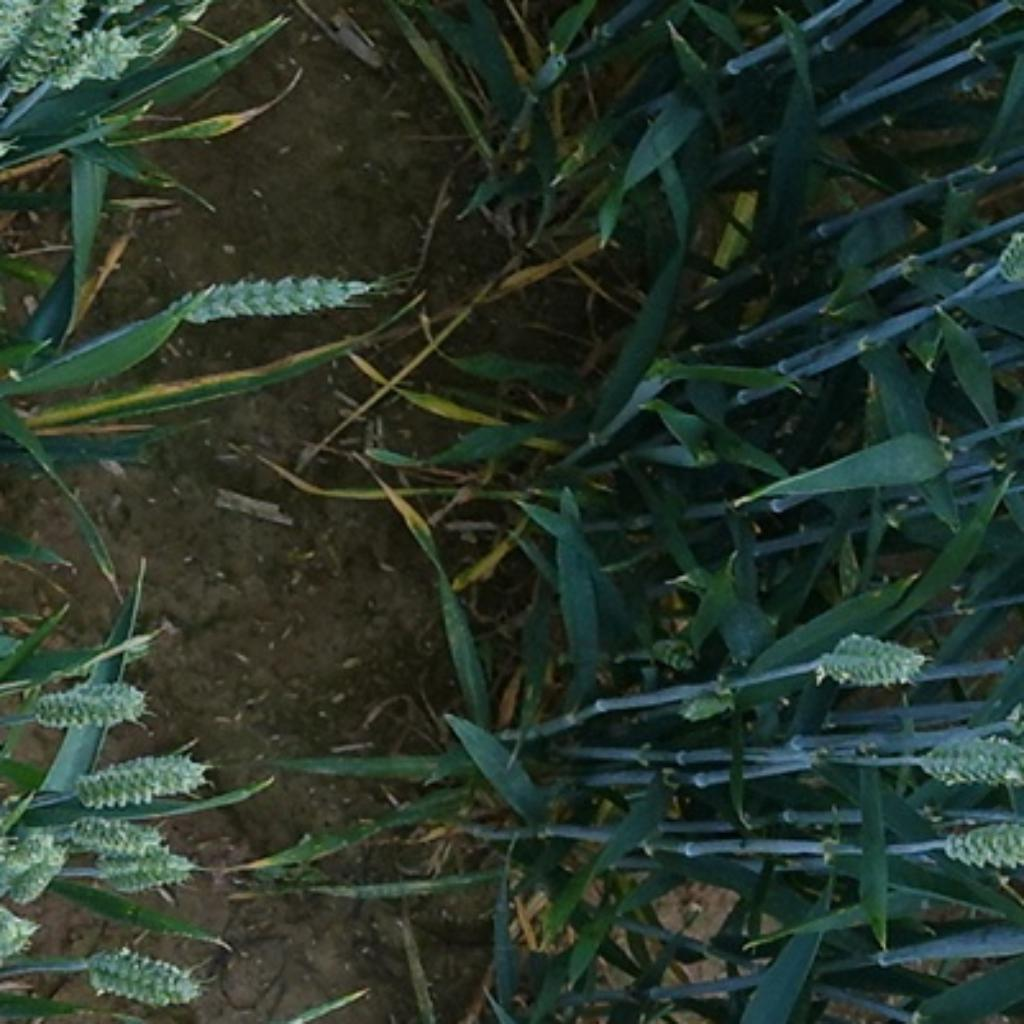0-0: (171, 262, 396, 322), (3, 0, 97, 100), (74, 939, 204, 1008), (71, 744, 215, 806), (811, 622, 934, 691), (27, 33, 145, 97), (20, 679, 155, 732), (0, 824, 69, 914), (911, 732, 1021, 788), (104, 848, 191, 904), (76, 808, 174, 857), (942, 819, 1024, 870), (642, 624, 709, 680), (0, 0, 35, 87)
